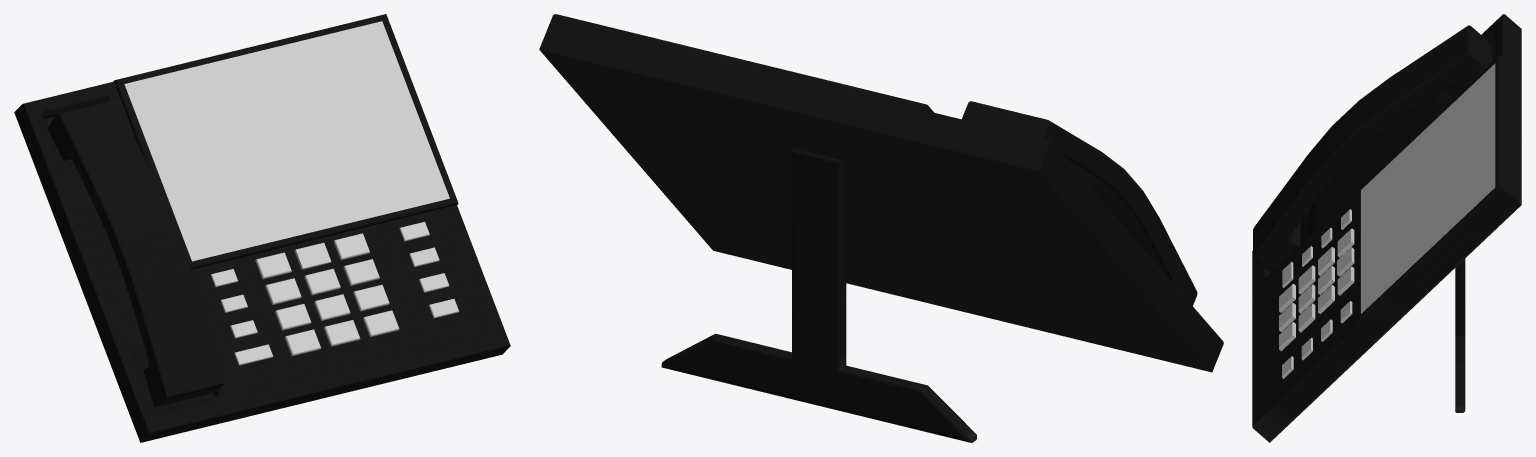
File: DeskPhone.fbx
3 renders of one model, left to right at view 1: azimuth 30°, elevation 25°; view 2: azimuth 150°, elevation 25°; view 3: azimuth 270°, elevation 25°, orthographic. The views are drawn at different scales.
Visible parts, largest first — view 1: pCube38, pCube79, pCube70; view 2: pCube38, pCube80, pCube79; view 3: pCube38, pCube79, pCube70, pCube80.
Part boxes in pixels (x1,y1,x2,y2): pCube38: (14, 14, 510, 442); pCube79: (48, 100, 224, 407); pCube70: (210, 221, 459, 365); pCube38: (539, 14, 1223, 372); pCube80: (661, 148, 976, 442); pCube79: (962, 101, 1197, 305); pCube38: (1252, 14, 1521, 442); pCube79: (1253, 25, 1491, 271); pCube70: (1279, 209, 1354, 378); pCube80: (1455, 259, 1465, 412).
Size of the model in its own units: 2.91 by 1.97 by 1.88.
